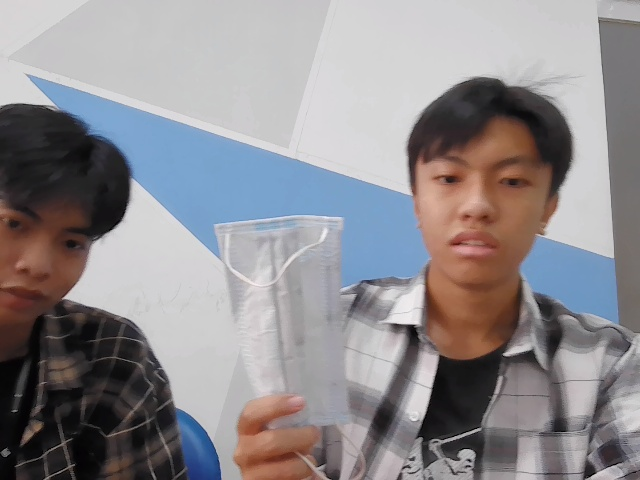human: (403, 71, 566, 272), (1, 104, 138, 334)
mask: (210, 220, 368, 426)
